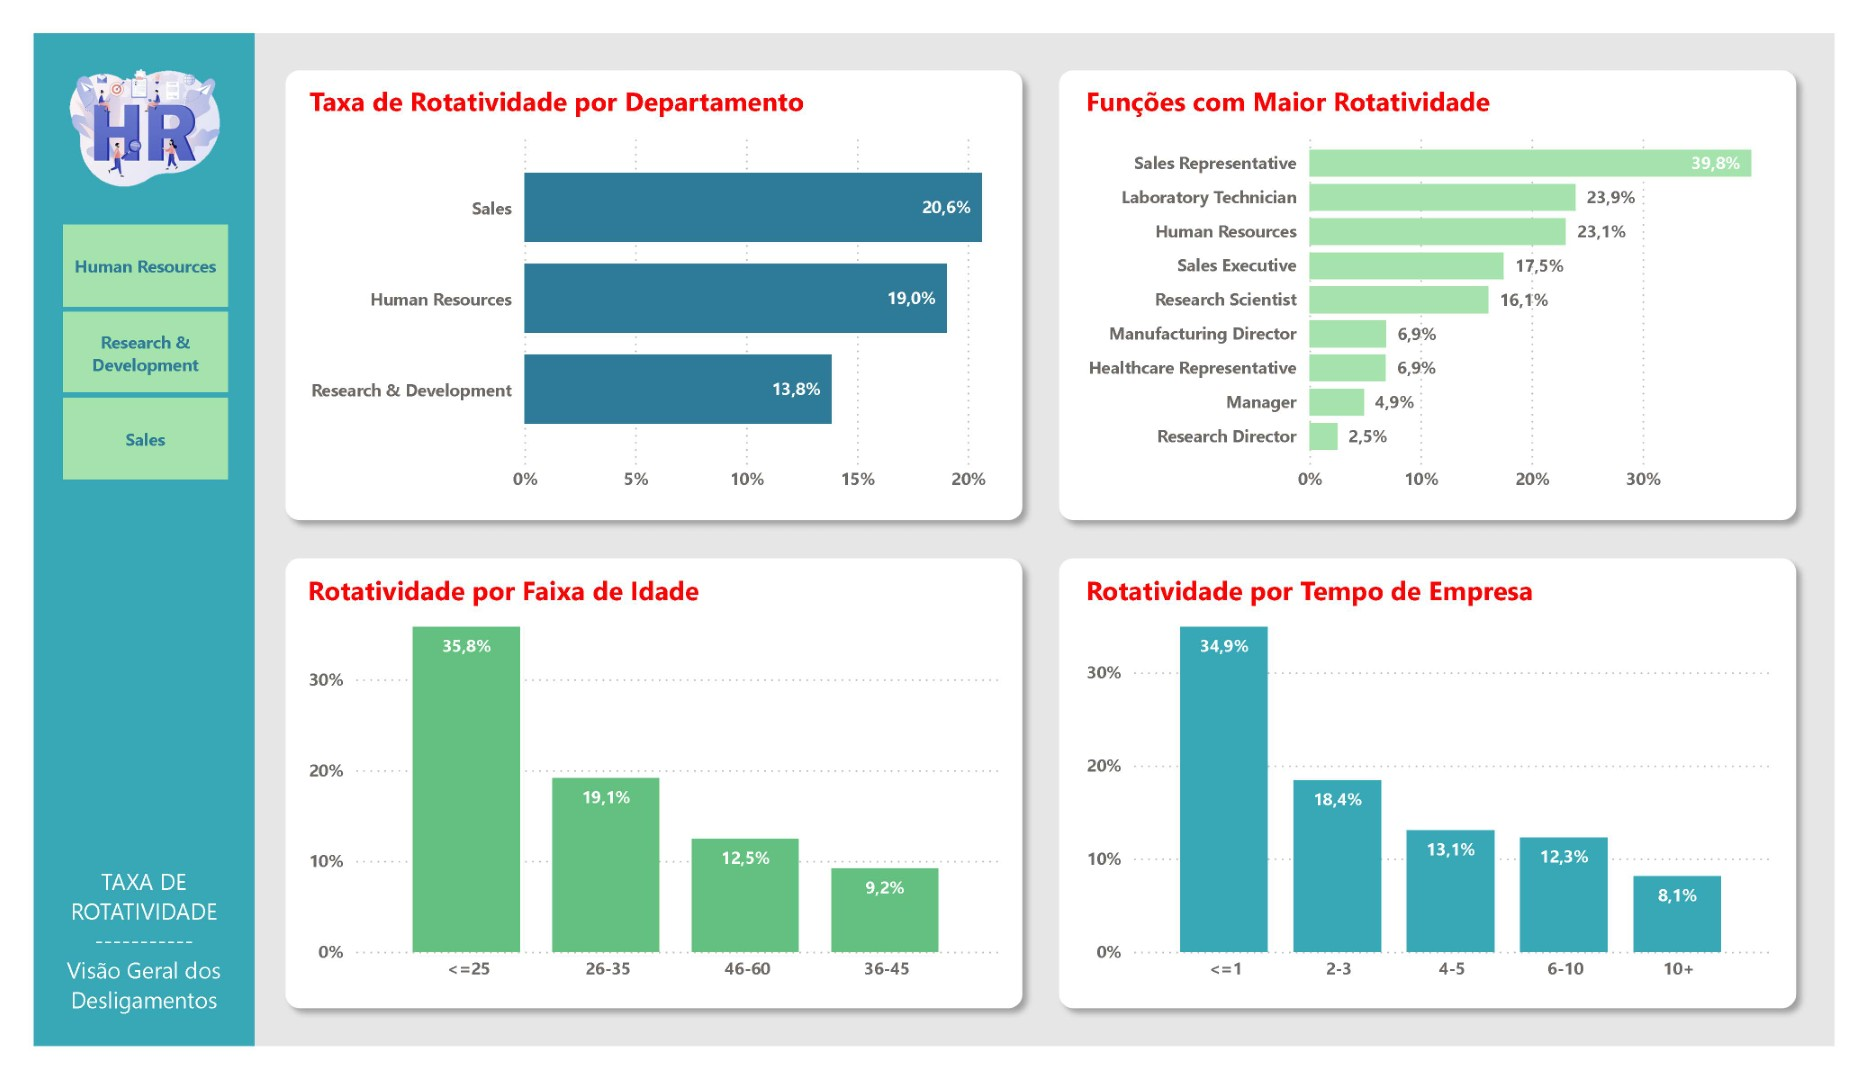

This screenshot's page, from the dashboard's own definition file:
{"tool":"powerbi","page":{"name":"Visão Geral dos Desligamentos","canvas":[1280,720],"ordinal":1},"visuals":[{"type":"shape","box":[170,17,542,338],"z":0},{"type":"shape","box":[0,0,156.9,720.1],"z":1000},{"type":"slicer","fields":{"Values":["HR.departamento"]},"box":[0,134,157,185],"z":2000},{"type":"textbox","box":[0,587,157,115],"z":3000},{"type":"image","box":[20,0,118,134],"z":4000},{"type":"shape","box":[170,364,542,338],"z":5000},{"type":"shape","box":[720,17,542,338],"z":6000},{"type":"shape","box":[720,364,542,338],"z":7000},{"type":"clusteredBarChart","title":"Taxa de Rotatividade por Departamento","fields":{"Category":["HR.departamento"],"Y":["HR.Taxa de Rotatividade"]},"box":[191,35,501,300],"z":8000},{"type":"clusteredBarChart","title":"Funções com Maior Rotatividade","fields":{"Y":["HR.Taxa de Rotatividade"],"Category":["HR.funcao"]},"box":[743,35,496,300],"z":9000},{"type":"clusteredColumnChart","title":"Rotatividade por Faixa de Idade","fields":{"Category":["HR.faixa_idade"],"Y":["HR.Taxa de Rotatividade"]},"box":[190,383,501,300],"z":10000},{"type":"clusteredColumnChart","title":"Rotatividade por Tempo de Empresa","fields":{"Category":["HR.faixa_tempo_empresa"],"Y":["HR.Taxa de Rotatividade"]},"box":[743,383,496,300],"z":11000}]}

Visuals, with their boxes in screenshot pixels (x1, y1, x2, y2), scaled from the page's 1280x720 canvas onto the 1868x1080 screenshot:
shape: rect(248, 26, 1039, 532)
shape: rect(0, 0, 229, 1079)
slicer - HR.departamento: rect(0, 201, 229, 478)
textbox: rect(0, 880, 229, 1053)
image: rect(29, 0, 201, 201)
shape: rect(248, 546, 1039, 1053)
shape: rect(1051, 26, 1842, 532)
shape: rect(1051, 546, 1842, 1053)
"Taxa de Rotatividade por Departamento" clusteredBarChart: rect(279, 52, 1010, 502)
"Funções com Maior Rotatividade" clusteredBarChart: rect(1084, 52, 1808, 502)
"Rotatividade por Faixa de Idade" clusteredColumnChart: rect(277, 574, 1008, 1024)
"Rotatividade por Tempo de Empresa" clusteredColumnChart: rect(1084, 574, 1808, 1024)
